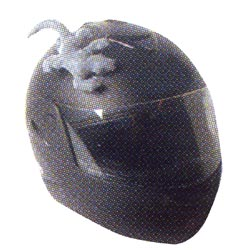helmet: (23, 33, 227, 228)
